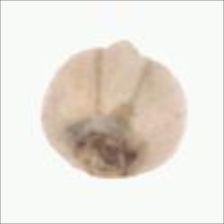L5: (92, 38, 154, 127), (66, 118, 145, 182)
L6: (37, 39, 189, 183)
